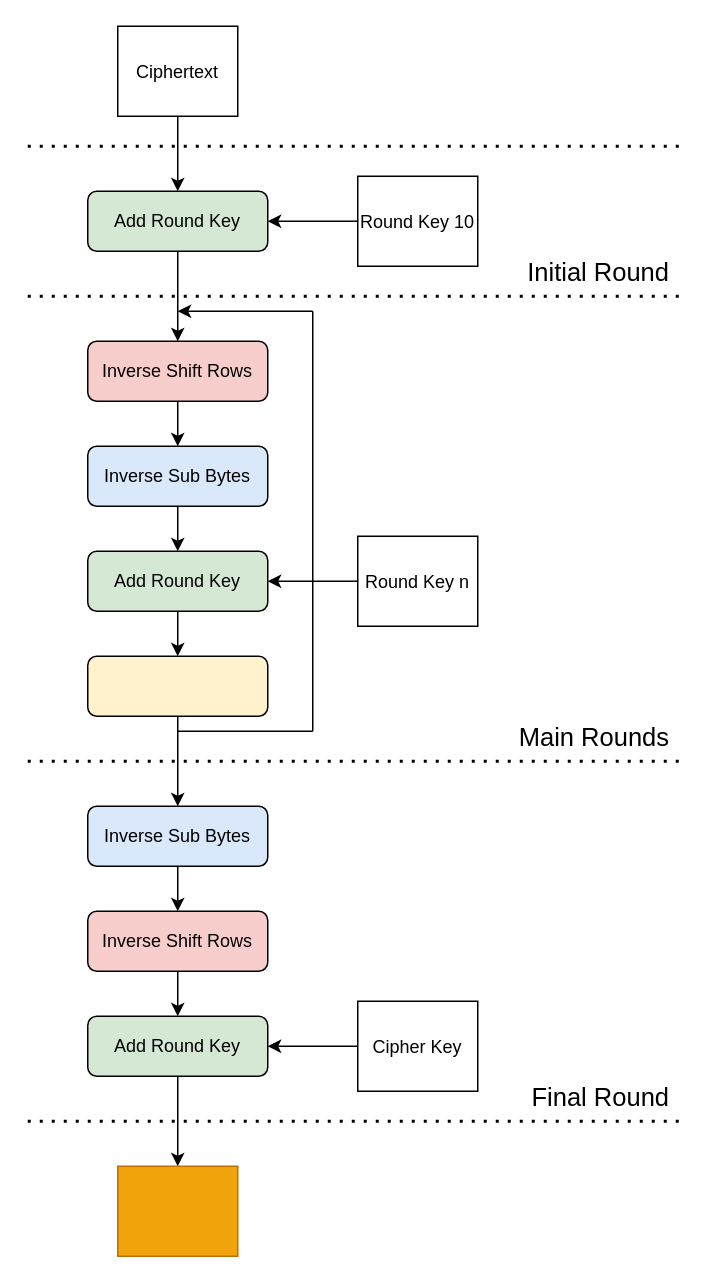
Image size: 716x1283. Some labels were removed from this diagram. Here are the shapes that lost their labels. From the top down, the centre of each, then its label:
At (177,685): "Inverse Mix Columns".
At (177,1210): "Plaintext".
